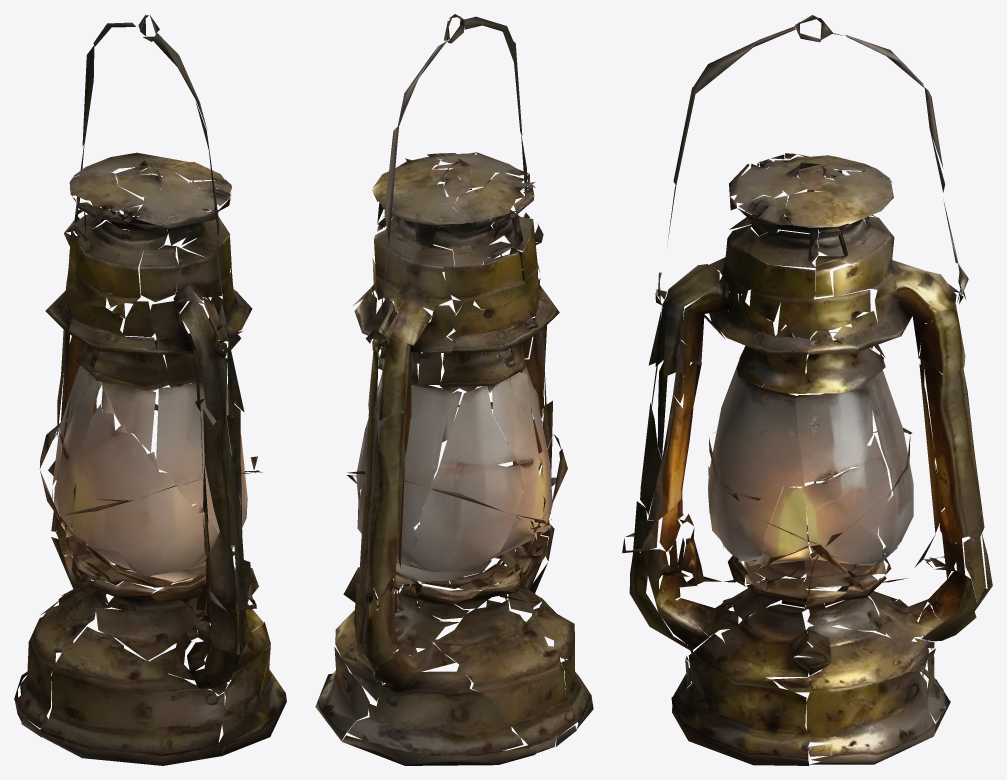
File: lantern.glb
3 renders of one model, left to right at view 1: azimuth 30°, elevation 25°; view 2: azimuth 150°, elevation 25°; view 3: azimuth 270°, elevation 25°, orthographic.
Visible parts, largest first — view 1: tripo_node_1fe6d969-76ab-4768-b809-b255b3ffaf3a; view 2: tripo_node_1fe6d969-76ab-4768-b809-b255b3ffaf3a; view 3: tripo_node_1fe6d969-76ab-4768-b809-b255b3ffaf3a.
Boxes of the visible parts, left/top/right/bottom form: tripo_node_1fe6d969-76ab-4768-b809-b255b3ffaf3a: left=14, top=14, right=286, bottom=765; tripo_node_1fe6d969-76ab-4768-b809-b255b3ffaf3a: left=315, top=14, right=593, bottom=765; tripo_node_1fe6d969-76ab-4768-b809-b255b3ffaf3a: left=622, top=15, right=992, bottom=765.
Bounding box in the file's own units: 0.3575 × 0.9971 × 0.48.
Materials: 1 (1 with a texture image).
